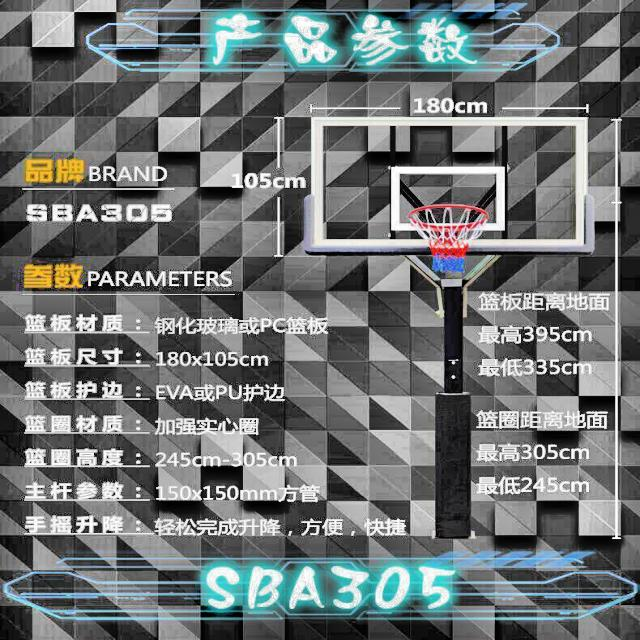rim: (408, 203, 489, 272)
